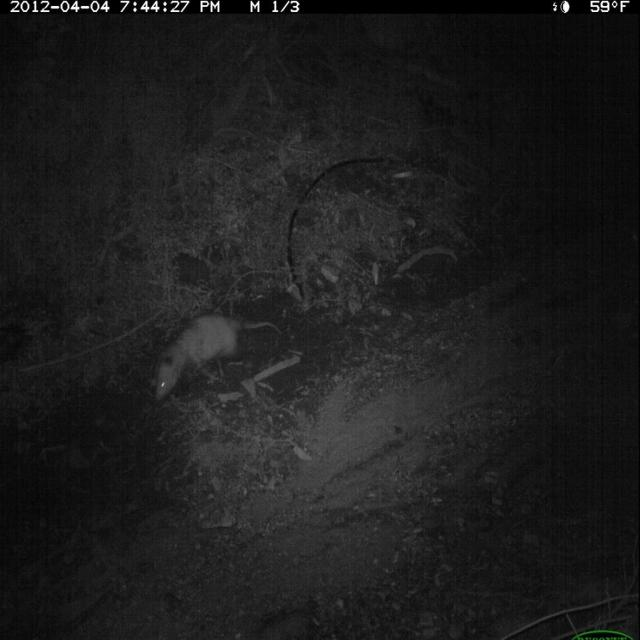opossum: (150, 310, 287, 408)
